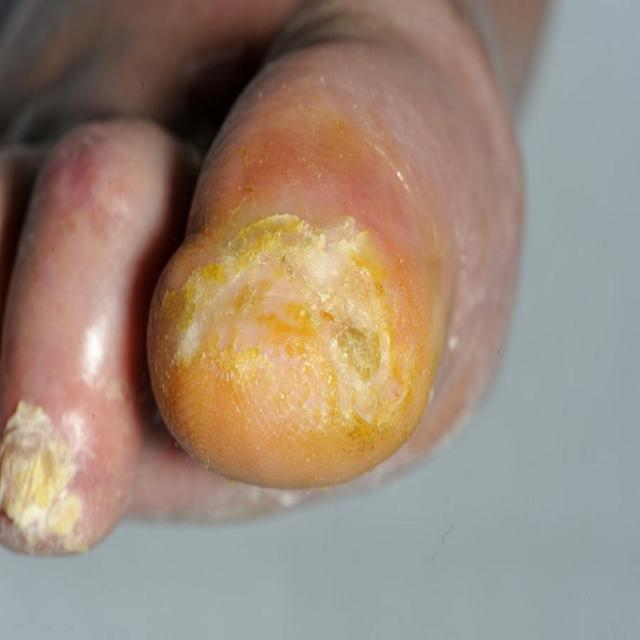wound: (144, 201, 448, 496)
